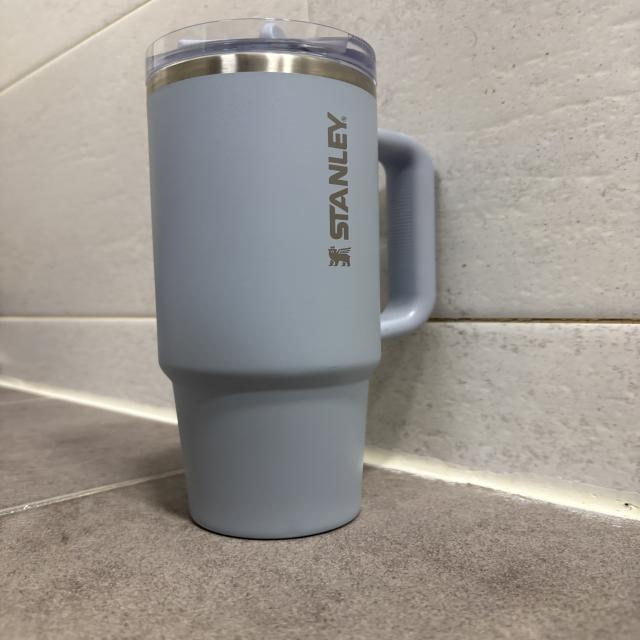waterbottle: (146, 19, 434, 541)
